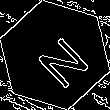N_NW: (22, 23, 88, 87)
